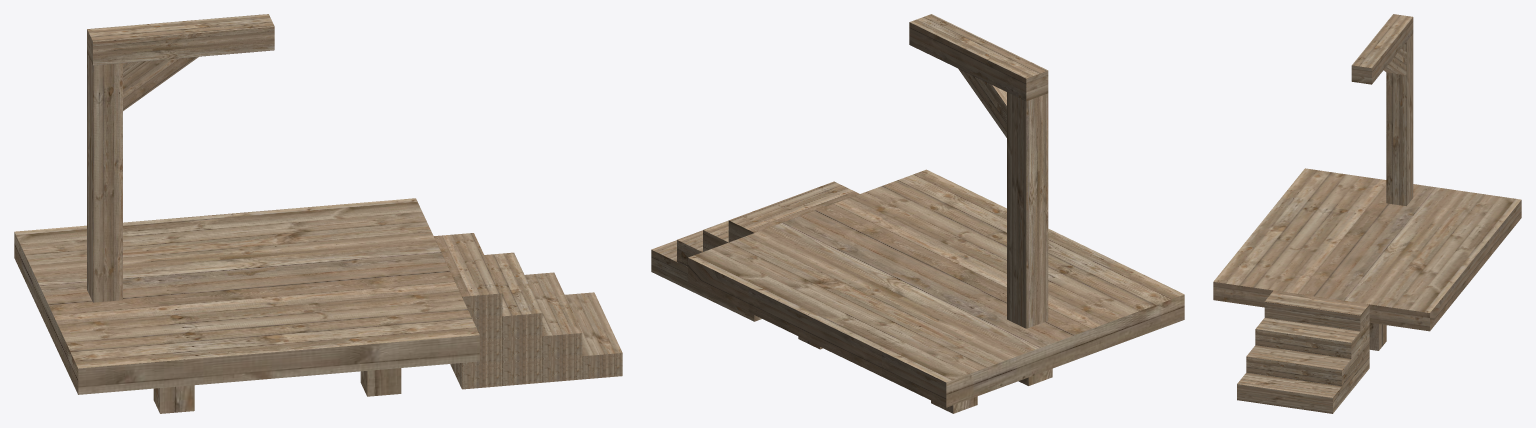
The model's file is gallows.obj.
3 views of the same model, side by side, from view 1: azimuth 30°, elevation 25°; view 2: azimuth 150°, elevation 25°; view 3: azimuth 270°, elevation 25° (orthographic). The views are drawn at different scales.
Parts seen in each view (by area): view 1: Sibenice_Cube.003; view 2: Sibenice_Cube.003; view 3: Sibenice_Cube.003.
Boxes of the visible parts, x1,y1,x2,y2 form: Sibenice_Cube.003: (14,14,622,413); Sibenice_Cube.003: (651,14,1184,413); Sibenice_Cube.003: (1213,14,1521,413).
Bounding box in the file's own units: 6.05 × 3.81 × 4.35.
Materials: 1 (1 with a texture image).
